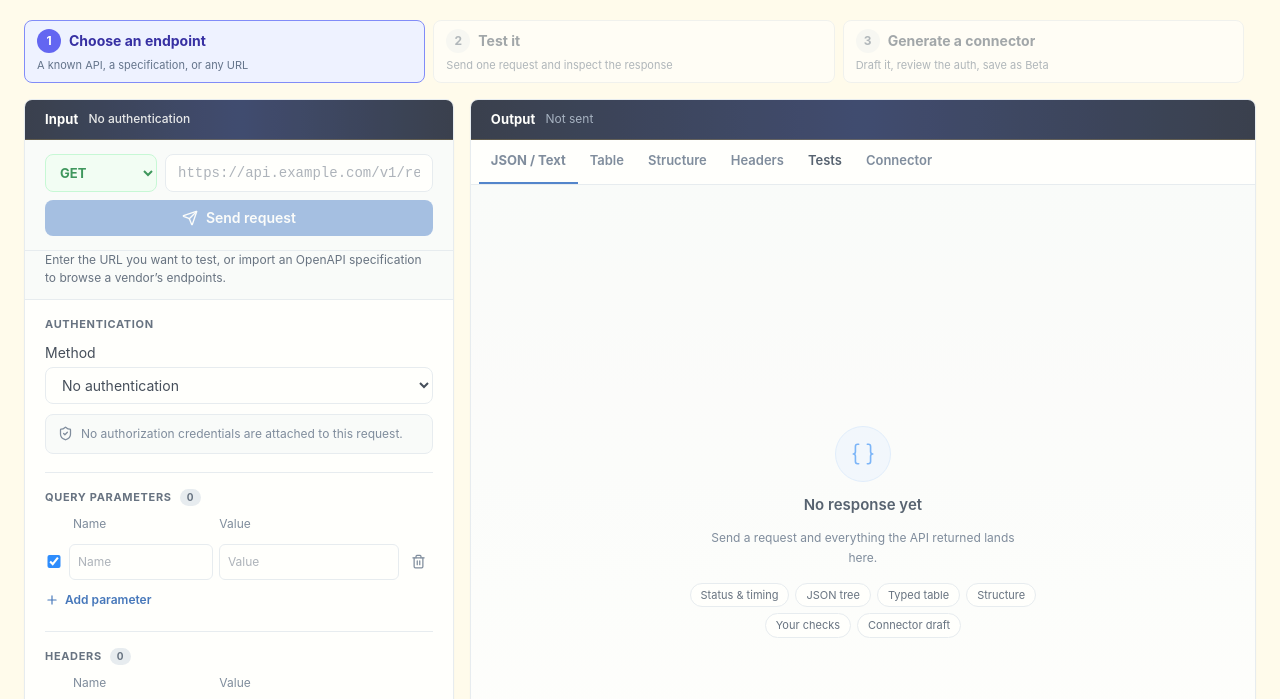
keeps errors visible and does not invent a response
Type "https://example.com/records" into the field named "Request URL".
click(299, 173); type("https://example.com/records")  # box 165,154 -> 433,192
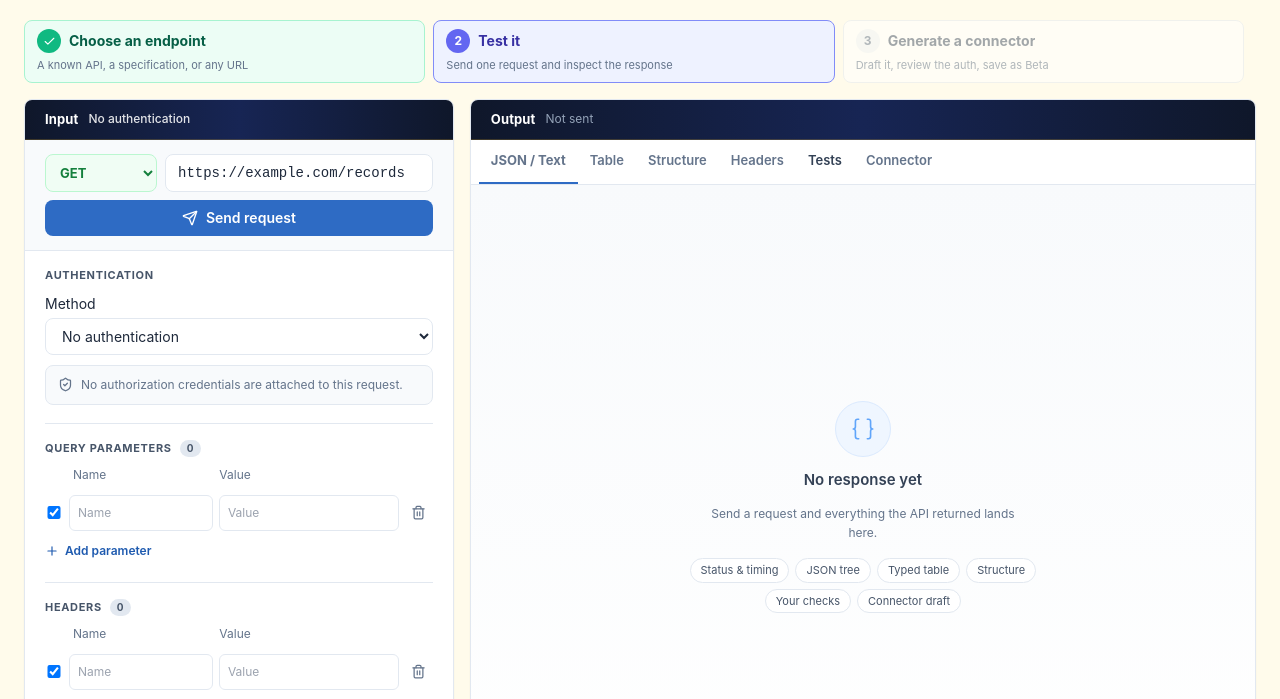
Click the button "Send request".
click(239, 218)  # box 45,200 -> 433,236
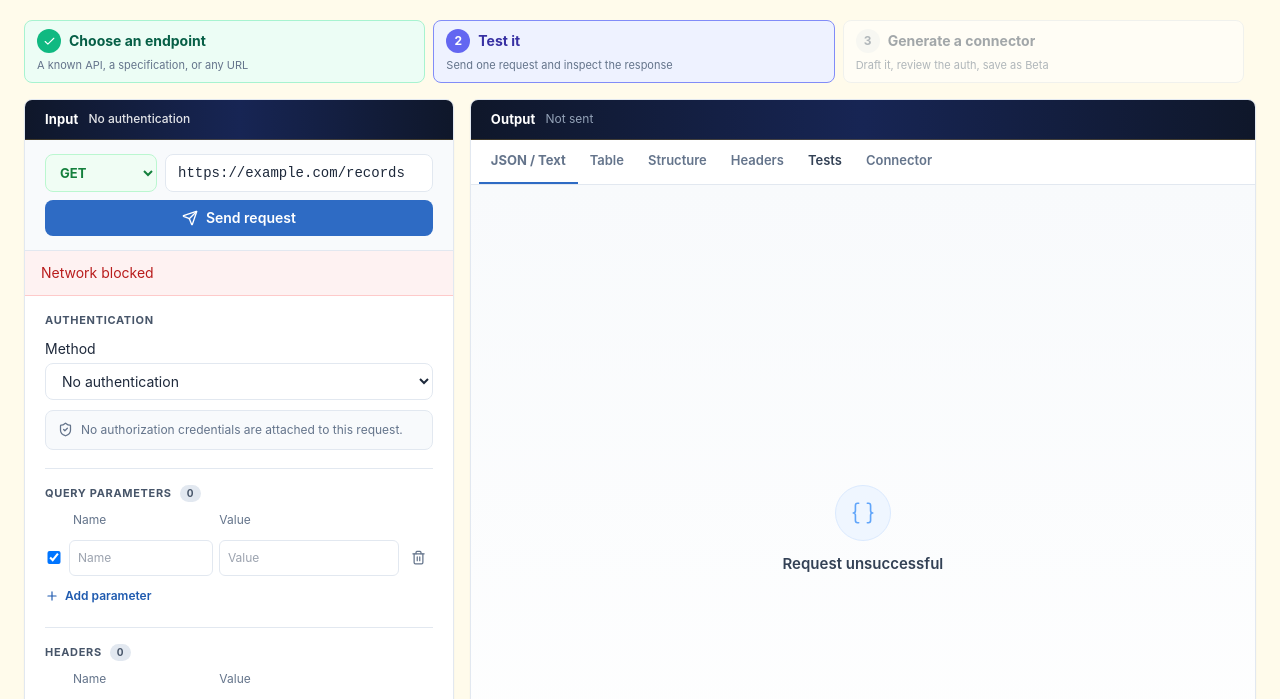
Now the message "Network blocked" is shown, box 25,251 -> 453,296
